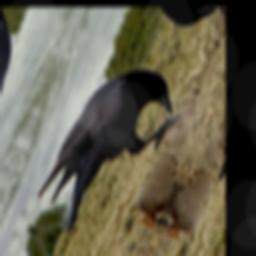Crow: (28, 45, 197, 256)
